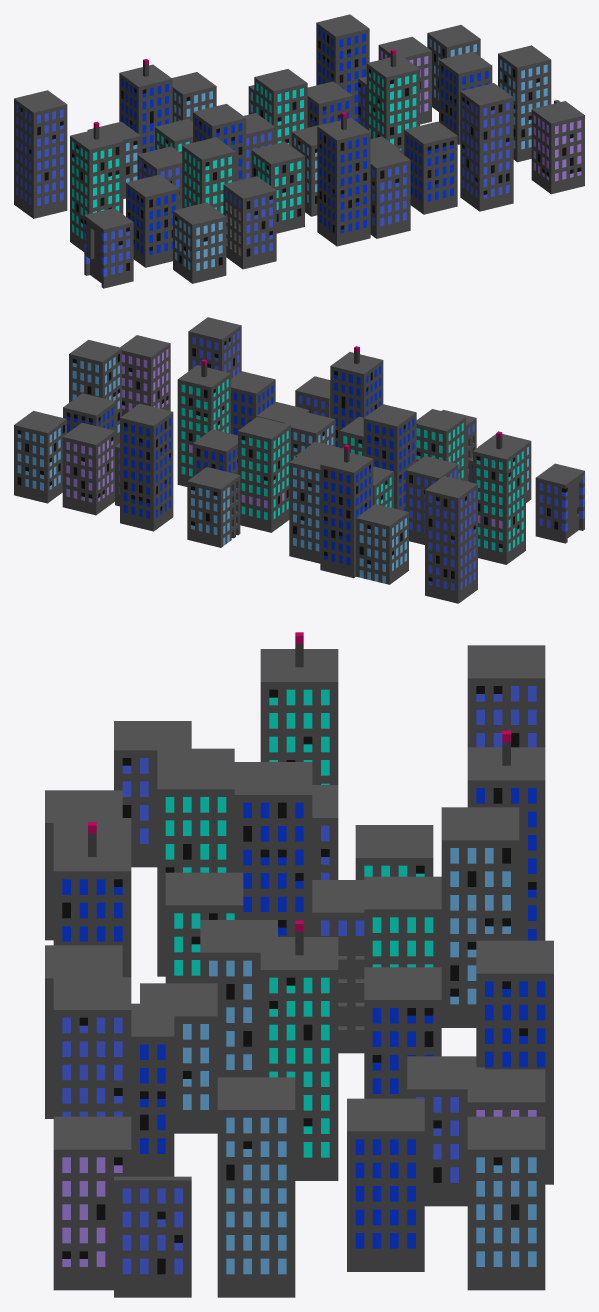
The model's file is cityBlue.gltf.
3 views of the same model, one above another, from view 1: azimuth 30°, elevation 25°; view 2: azimuth 150°, elevation 25°; view 3: azimuth 270°, elevation 25° (orthographic). The views are drawn at different scales.
Visible parts, largest first — view 1: default; view 2: default; view 3: default.
Boxes of the visible parts, x1=… form: default: x1=14, y1=14, x2=584, y2=288; default: x1=14, y1=317, x2=584, y2=603; default: x1=45, y1=632, x2=553, y2=1297.
Size of the model in its own units: 3.2 by 0.7874 by 1.5.
Materials: 1 (1 with a texture image).
